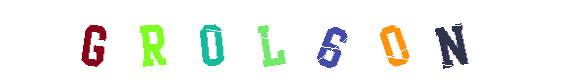0: (354, 0, 434, 80)
6: (301, 0, 381, 80)
G: (53, 0, 133, 80)
L: (243, 0, 323, 80)
N: (411, 0, 491, 80)
O: (171, 0, 251, 80)
R: (158, 0, 238, 80)
